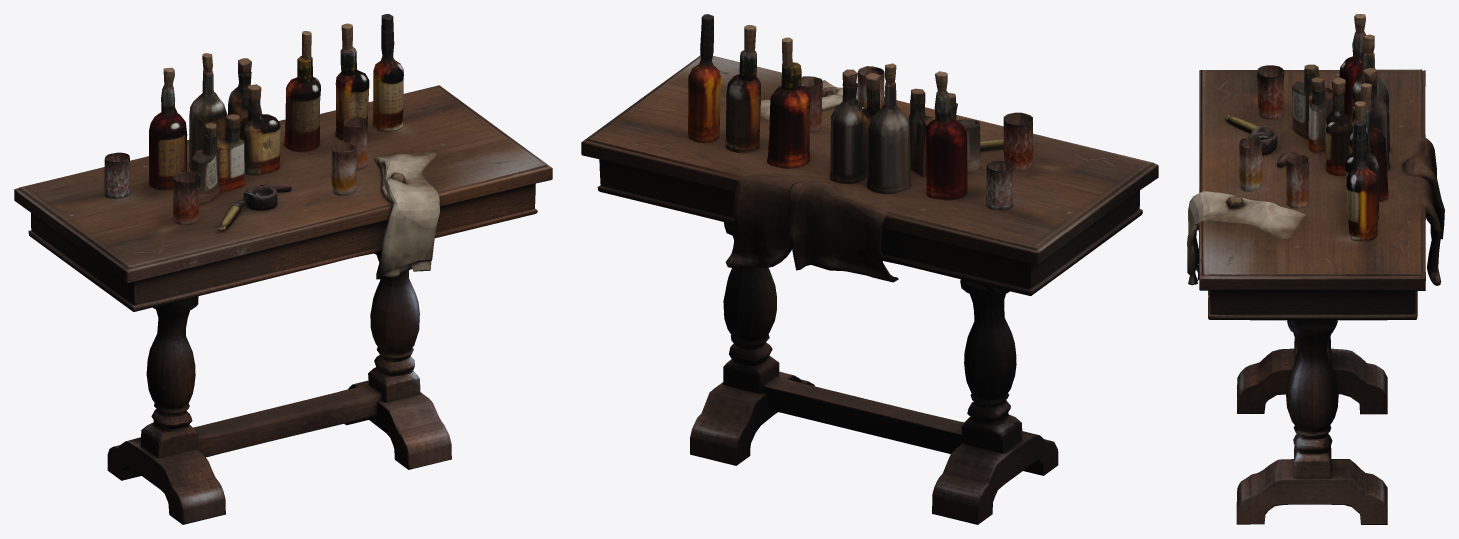
The model's file is trellis_1789133559321_sdrc8.glb.
The picture shows the model from 3 angles, left to right: view 1: azimuth 30°, elevation 25°; view 2: azimuth 150°, elevation 25°; view 3: azimuth 270°, elevation 25°; orthographic projection. The views are drawn at different scales.
Parts seen in each view (by area): view 1: world; view 2: world; view 3: world.
Boxes of the visible parts, x1,y1,x2,y2 form: world: (14,14,552,524); world: (581,14,1158,524); world: (1187,14,1444,524).
Bounding box in the file's own units: 1 × 0.8977 × 0.5229.
1 material, 1 textured.
